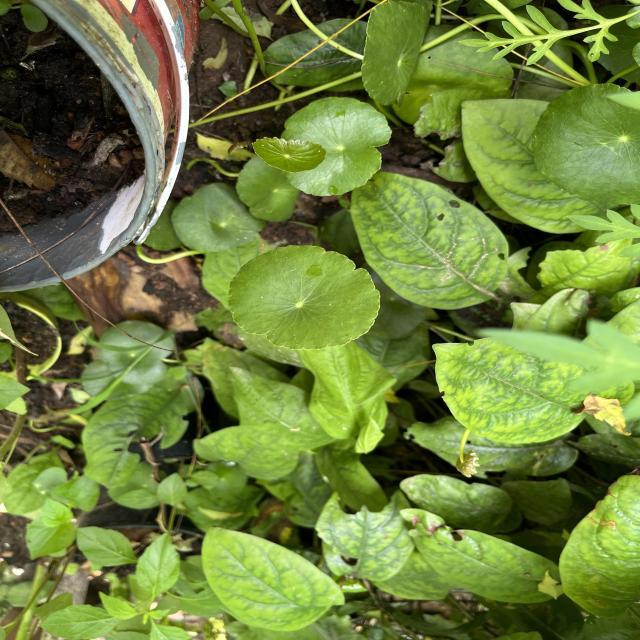Bacopa monnieri: (224, 240, 385, 354), (529, 81, 640, 210), (275, 94, 395, 200), (248, 134, 329, 177)
